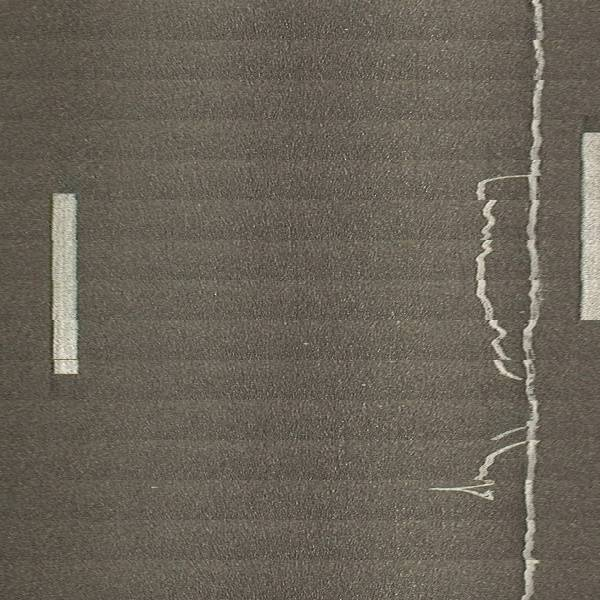road_damage: (463, 167, 523, 514)
